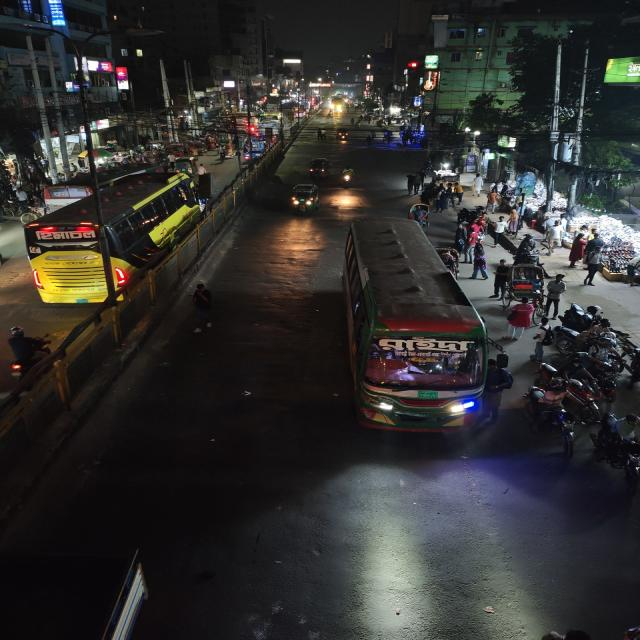bus: (339, 214, 492, 444), (21, 170, 203, 307)
cng: (287, 182, 322, 218), (306, 156, 332, 180), (171, 156, 198, 174)
motorcycle: (588, 411, 640, 483), (0, 323, 55, 383), (528, 362, 567, 414), (185, 281, 219, 336), (337, 165, 357, 188), (335, 128, 350, 144)
pedestrian: (505, 299, 536, 341), (543, 272, 568, 316), (491, 258, 512, 298), (470, 240, 490, 279), (404, 171, 420, 195)
rickshaw: (407, 201, 432, 231)
